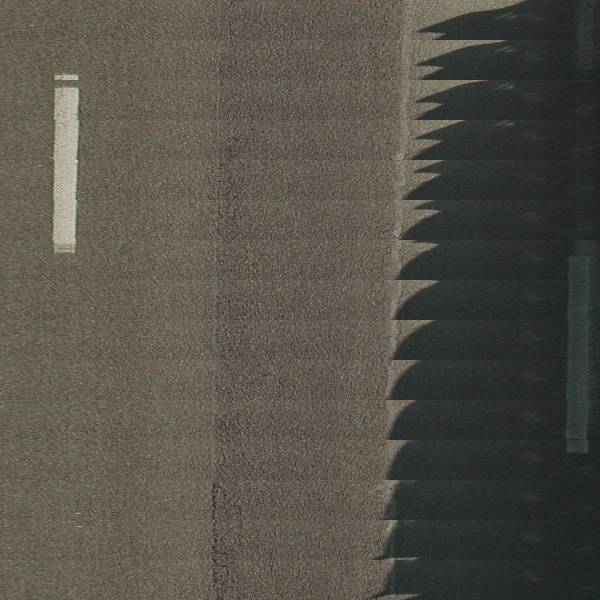road_damage: (206, 479, 247, 600)
